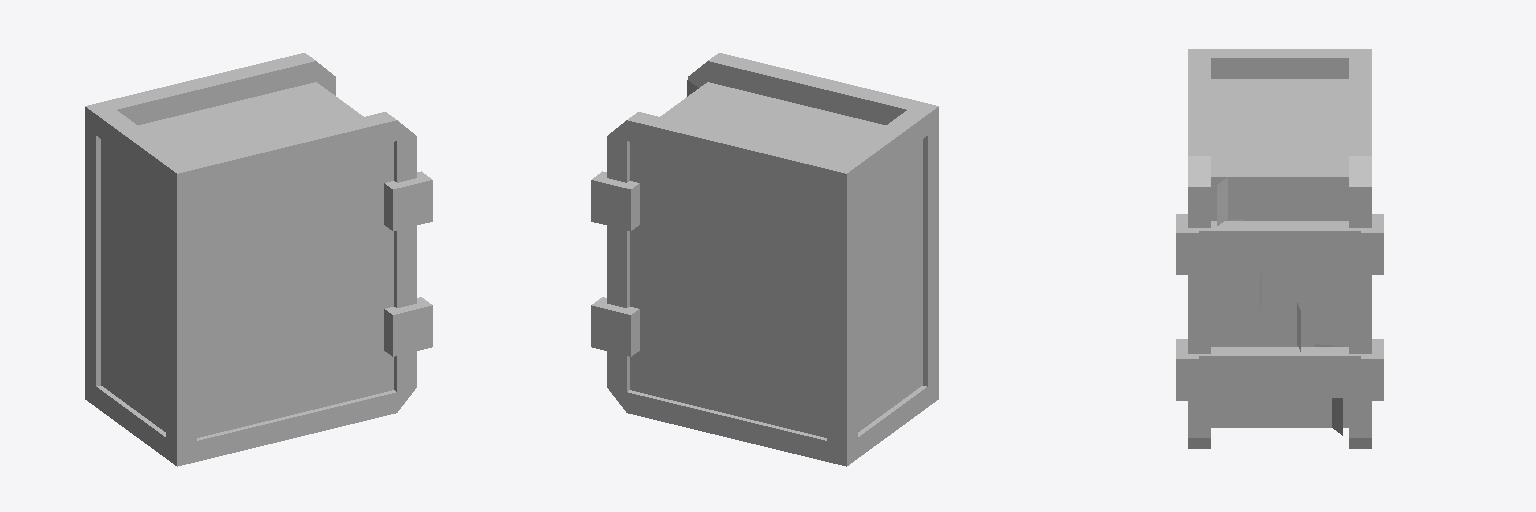
The model's file is codexarcana_closed.obj.
3 renders of one model, left to right at view 1: azimuth 30°, elevation 25°; view 2: azimuth 150°, elevation 25°; view 3: azimuth 270°, elevation 25°, orthographic.
Parts seen in each view (by area): view 1: COVER_RIGHT_CLOSED_Cube.003, SPINE_CLOSED_Cube.004, COVER_LEFT_CLOSED_Cube.007, PAGES_LEFT_CLOSED_Cube.008, PAGES_RIGHT_CLOSED_Cube.002; view 2: COVER_LEFT_CLOSED_Cube.007, SPINE_CLOSED_Cube.004, COVER_RIGHT_CLOSED_Cube.003, PAGES_RIGHT_CLOSED_Cube.002, PAGES_LEFT_CLOSED_Cube.008; view 3: COVER_RIGHT_CLOSED_Cube.003, PAGES_LEFT_CLOSED_Cube.008, PAGES_RIGHT_CLOSED_Cube.002, COVER_LEFT_CLOSED_Cube.007, SPINE_CLOSED_Cube.004.
Part boxes in pixels (bbox=[...]): COVER_RIGHT_CLOSED_Cube.003: bbox=[166, 112, 432, 466]; SPINE_CLOSED_Cube.004: bbox=[85, 101, 185, 457]; COVER_LEFT_CLOSED_Cube.007: bbox=[96, 53, 335, 384]; PAGES_LEFT_CLOSED_Cube.008: bbox=[138, 82, 349, 150]; PAGES_RIGHT_CLOSED_Cube.002: bbox=[173, 107, 363, 159]; COVER_LEFT_CLOSED_Cube.007: bbox=[591, 112, 837, 461]; SPINE_CLOSED_Cube.004: bbox=[827, 110, 927, 466]; COVER_RIGHT_CLOSED_Cube.003: bbox=[688, 53, 938, 406]; PAGES_RIGHT_CLOSED_Cube.002: bbox=[674, 80, 885, 150]; PAGES_LEFT_CLOSED_Cube.008: bbox=[660, 107, 850, 159]; COVER_RIGHT_CLOSED_Cube.003: bbox=[1176, 49, 1360, 448]; PAGES_LEFT_CLOSED_Cube.008: bbox=[1280, 79, 1348, 435]; PAGES_RIGHT_CLOSED_Cube.002: bbox=[1211, 79, 1279, 427]; COVER_LEFT_CLOSED_Cube.007: bbox=[1349, 58, 1383, 448]; SPINE_CLOSED_Cube.004: bbox=[1211, 49, 1371, 78].
Bounding box in the file's own units: 0.7812 × 0.875 × 0.5625.